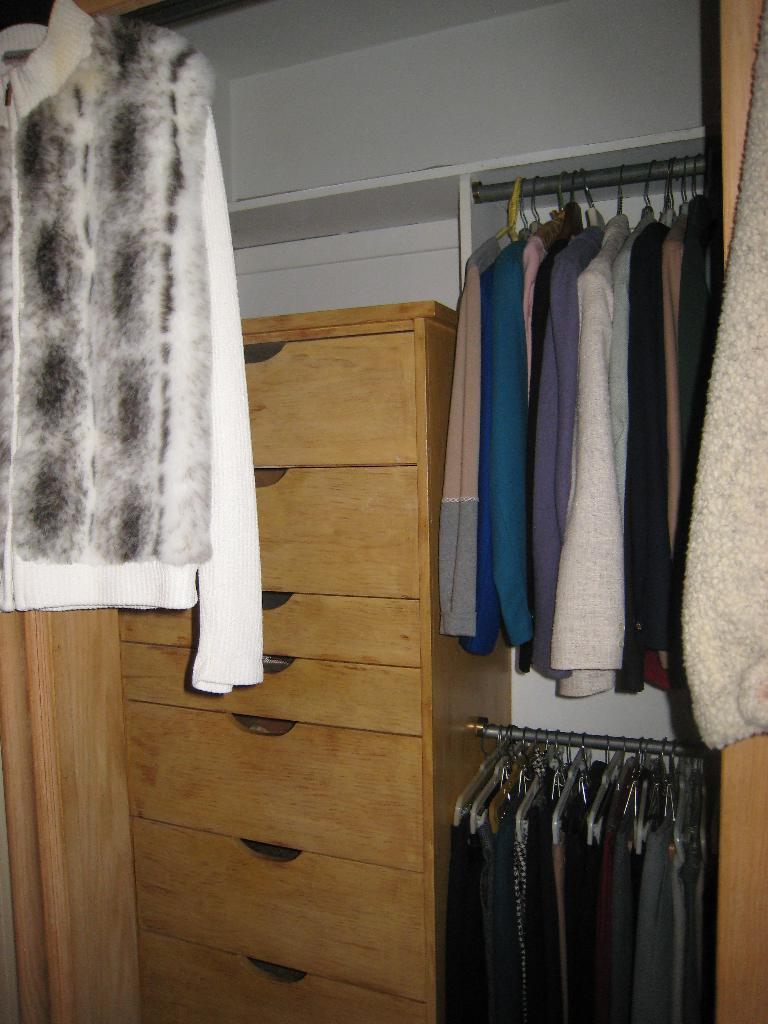cabinet door: (140, 821, 419, 971), (134, 703, 428, 832), (133, 641, 419, 717), (152, 940, 407, 1024), (265, 459, 415, 582), (256, 338, 415, 449), (266, 582, 421, 667)
handle: (247, 934, 311, 1000), (226, 700, 295, 751), (241, 821, 305, 875), (246, 444, 292, 505), (259, 573, 295, 620), (261, 636, 295, 684), (237, 336, 289, 367)
